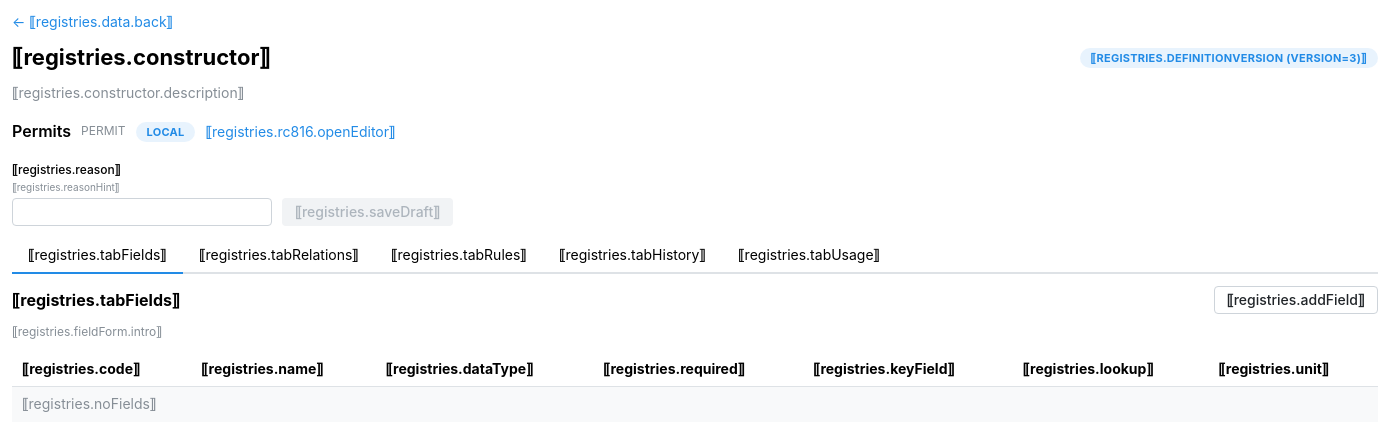
Test: Конструктор довідника: «де використано» › посилань немає (успіх) — «ніде не використано»
Click the tab "⟦registries.tabUsage⟧": (809, 256) left=722, top=238, right=896, bottom=274
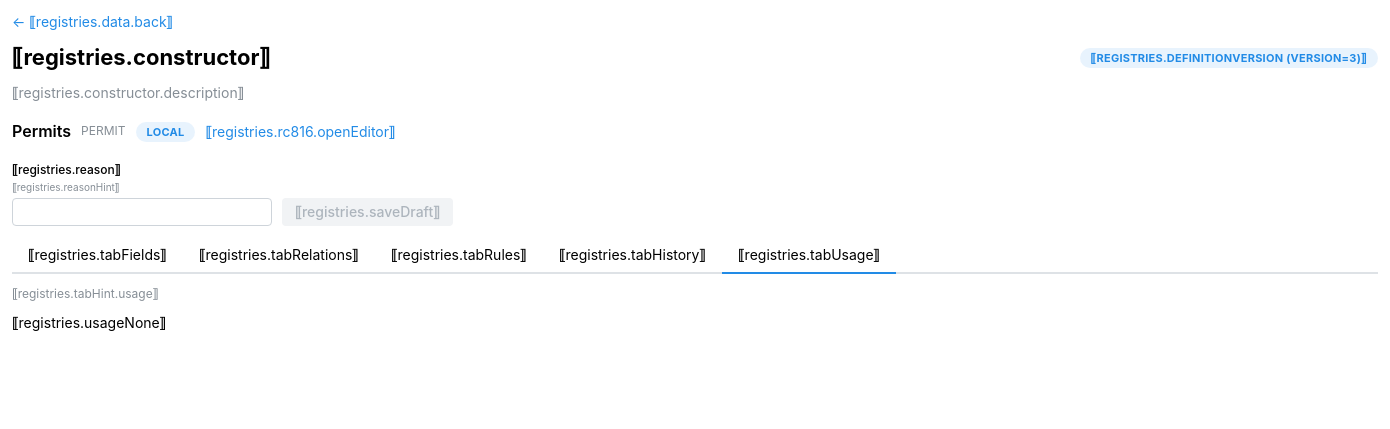
Now the text "⟦registries.usageNone⟧" is shown, box left=12, top=314, right=166, bottom=331
